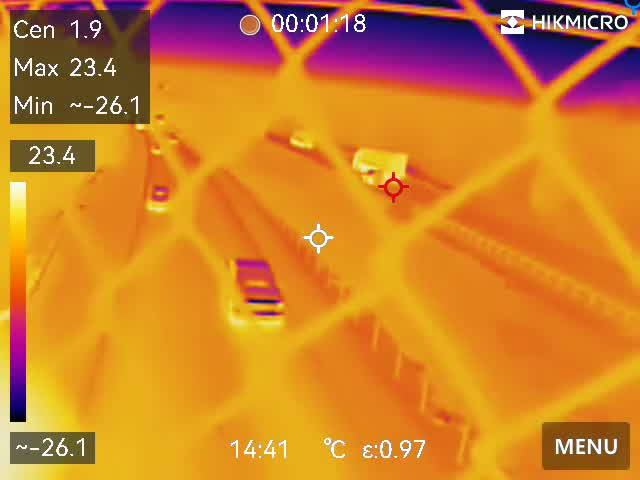heavyTruck: (351, 148, 407, 183)
vehicle: (215, 252, 288, 327), (143, 183, 175, 215), (146, 142, 163, 156), (166, 133, 180, 145)
